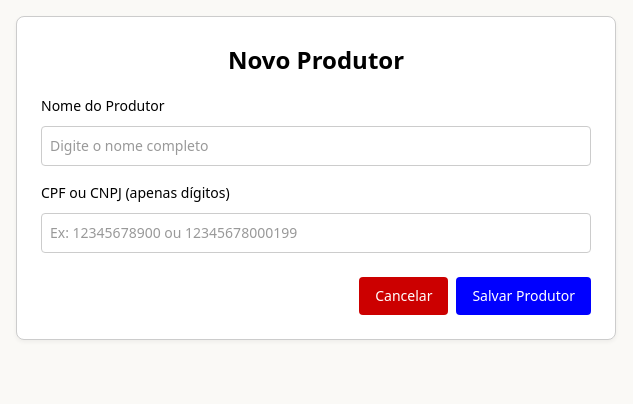
Test: NewProducerForm › exibe mensagens de erro ao submeter sem preencher campos obrigatórios
Click the button "Salvar Produtor" at (524, 296), box [456,277,591,315]
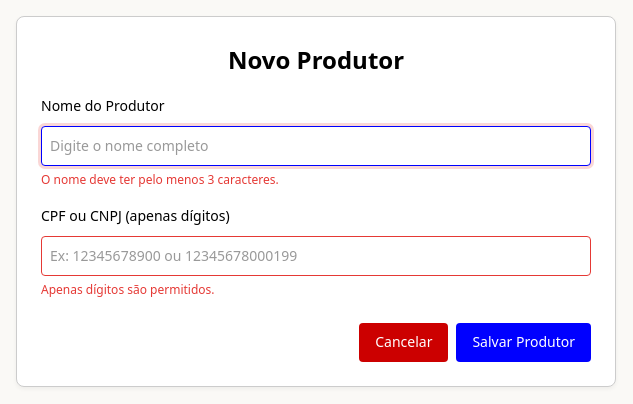
Expected: the text "O nome deve ter pelo menos 3 caracteres." is shown, [41,171,279,188]
Expected: the text "Apenas dígitos são permitidos." is shown, [41,281,215,298]
